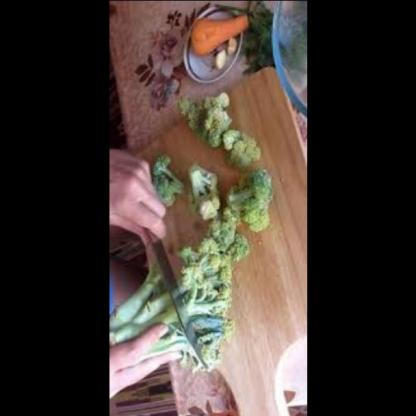broccoli: (154, 224, 244, 392), (174, 95, 253, 162), (223, 172, 272, 236), (178, 158, 230, 216), (132, 152, 177, 206)
carrot: (187, 11, 252, 57)
garlic: (224, 36, 240, 57), (213, 48, 228, 70)
